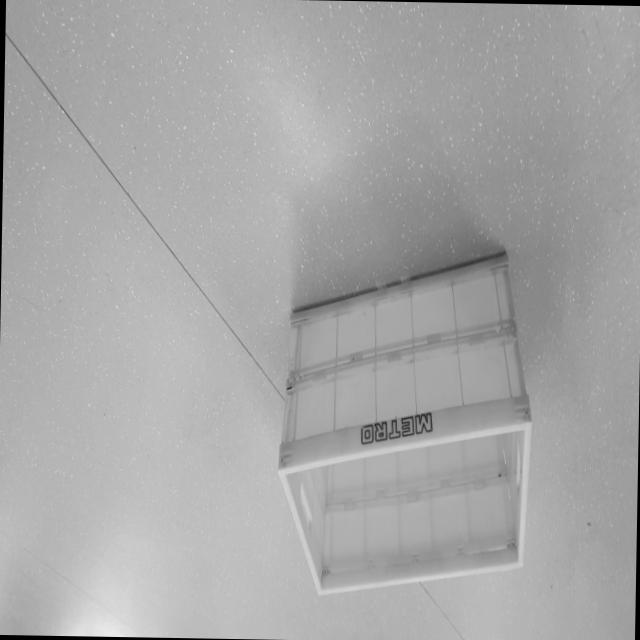box: (264, 230, 546, 600)
